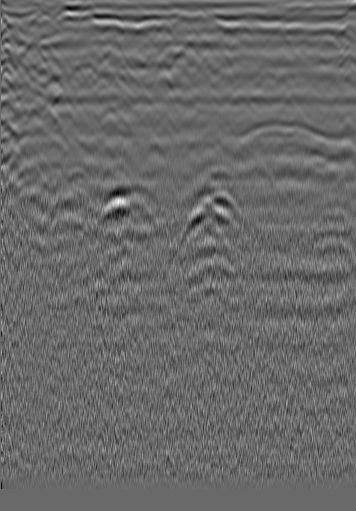가스: (93, 182, 158, 228)
상수: (315, 36, 335, 56)
우수: (177, 34, 197, 54)
